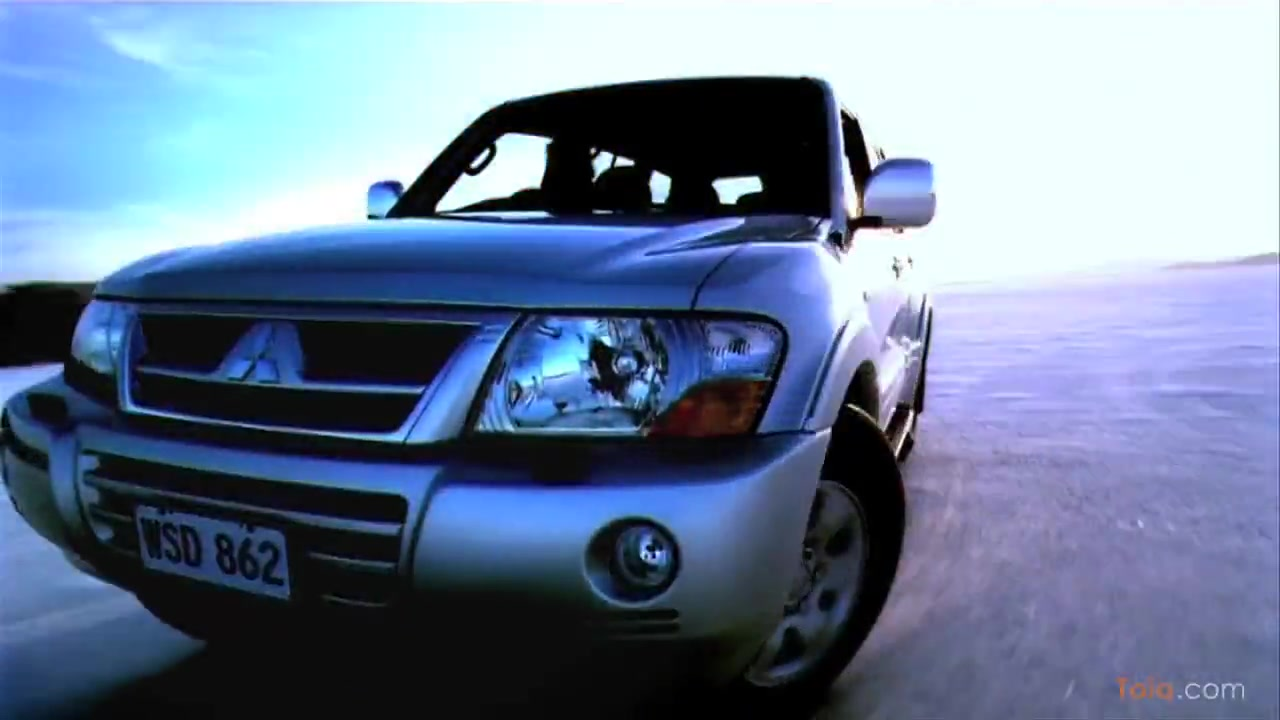car: (2, 75, 942, 713)
